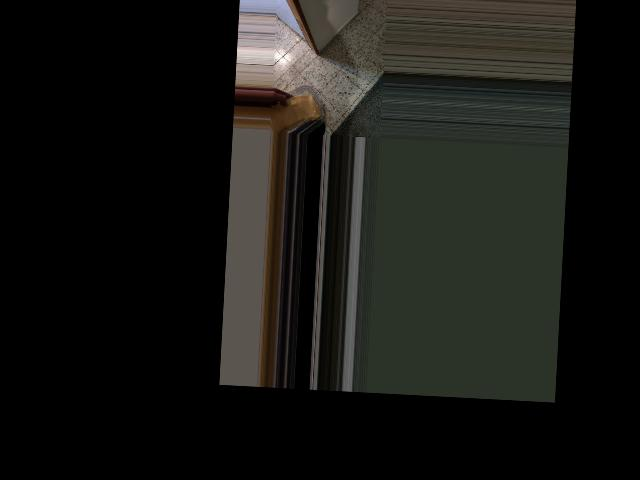cheese: (268, 84, 325, 136)
